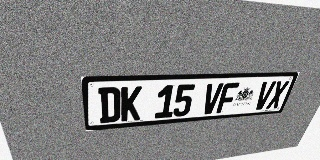1: (155, 85, 177, 119)
5: (173, 84, 195, 117)
D: (98, 87, 120, 123)
F: (216, 82, 240, 113)
K: (121, 86, 142, 121)
V: (200, 83, 224, 115), (252, 81, 276, 110)
X: (266, 81, 290, 109)
